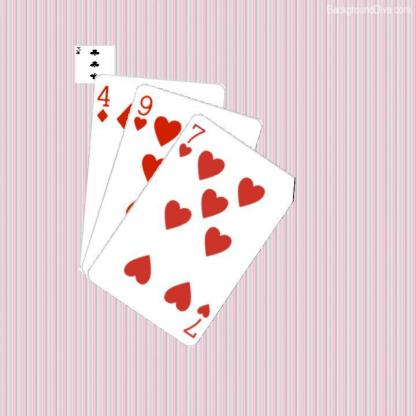4D: (94, 82, 111, 123)
7H: (180, 300, 212, 340), (176, 120, 207, 159)
9H: (130, 92, 154, 132)
